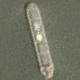ship: (0, 0, 27, 40)
